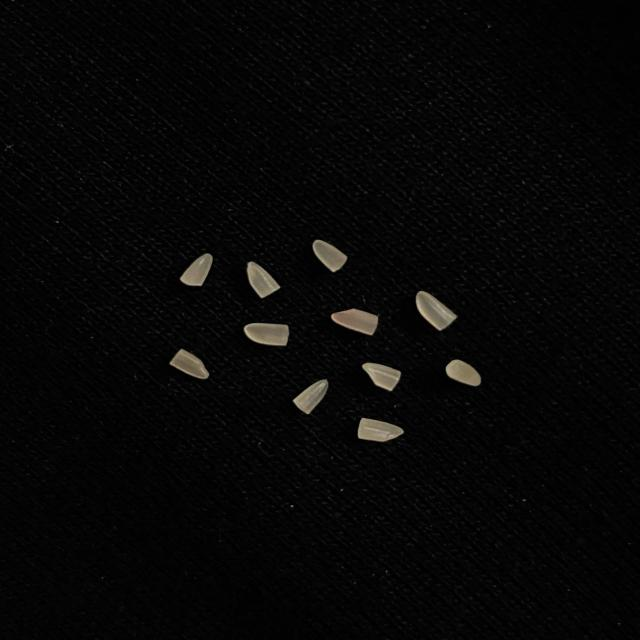Broken: (416, 290, 458, 332), (292, 379, 328, 415), (331, 308, 378, 335), (170, 348, 210, 379), (247, 262, 281, 298), (243, 322, 290, 347), (313, 239, 347, 273), (358, 417, 404, 442), (363, 362, 401, 392), (180, 252, 213, 286), (446, 359, 481, 386)
